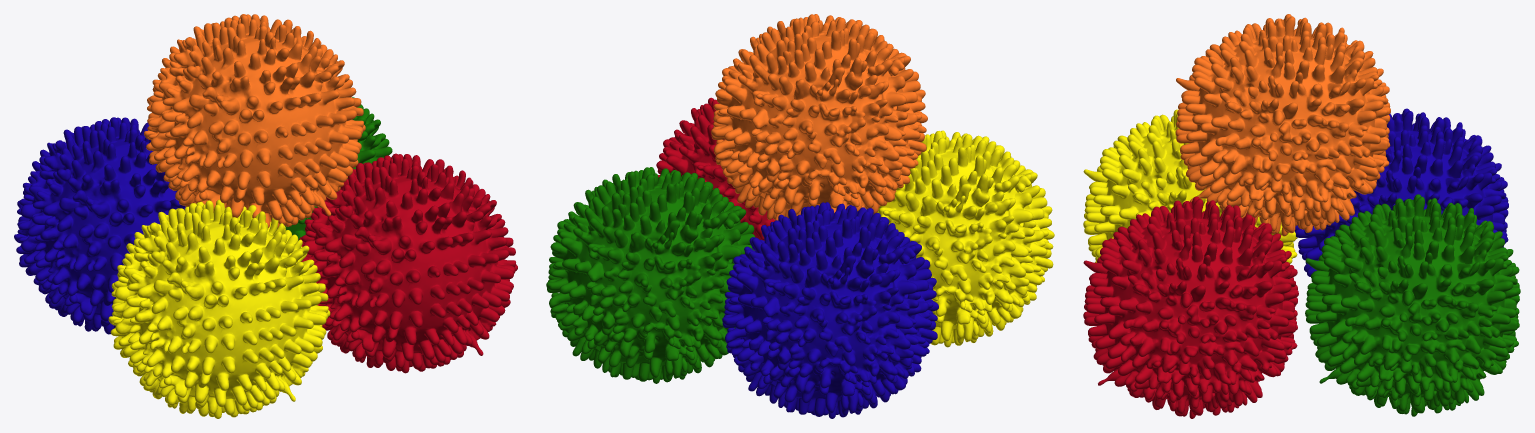
The model's file is Pompom-revisi1.fbx.
3 renders of one model, left to right at view 1: azimuth 30°, elevation 25°; view 2: azimuth 150°, elevation 25°; view 3: azimuth 270°, elevation 25°, orthographic.
Visible parts, largest first — view 1: tripo_node_65faede3.002, tripo_node_65faede3.001, tripo_node_65faede3, tripo_node_65faede3.004, tripo_node_65faede3.003; view 2: tripo_node_65faede3.004, tripo_node_65faede3.001, tripo_node_65faede3.003, tripo_node_65faede3.002, tripo_node_65faede3; view 3: tripo_node_65faede3.003, tripo_node_65faede3, tripo_node_65faede3.001, tripo_node_65faede3.004, tripo_node_65faede3.002.
Boxes of the visible parts, x1,y1,x2,y2 form: tripo_node_65faede3.002: (108,199,330,418); tripo_node_65faede3.001: (144,14,365,228); tripo_node_65faede3: (299,153,517,373); tripo_node_65faede3.004: (14,117,185,334); tripo_node_65faede3.003: (285,97,392,240); tripo_node_65faede3.004: (722,202,938,418); tripo_node_65faede3.001: (711,14,927,220); tripo_node_65faede3.003: (546,167,754,383); tripo_node_65faede3.002: (865,130,1054,347); tripo_node_65faede3: (656,97,774,240); tripo_node_65faede3.003: (1305,194,1520,416); tripo_node_65faede3: (1083,196,1298,418); tripo_node_65faede3.001: (1175,14,1390,236); tripo_node_65faede3.004: (1295,108,1508,276); tripo_node_65faede3.002: (1083,109,1297,263).
Size of the model in its own units: 101 by 85.37 by 103.
